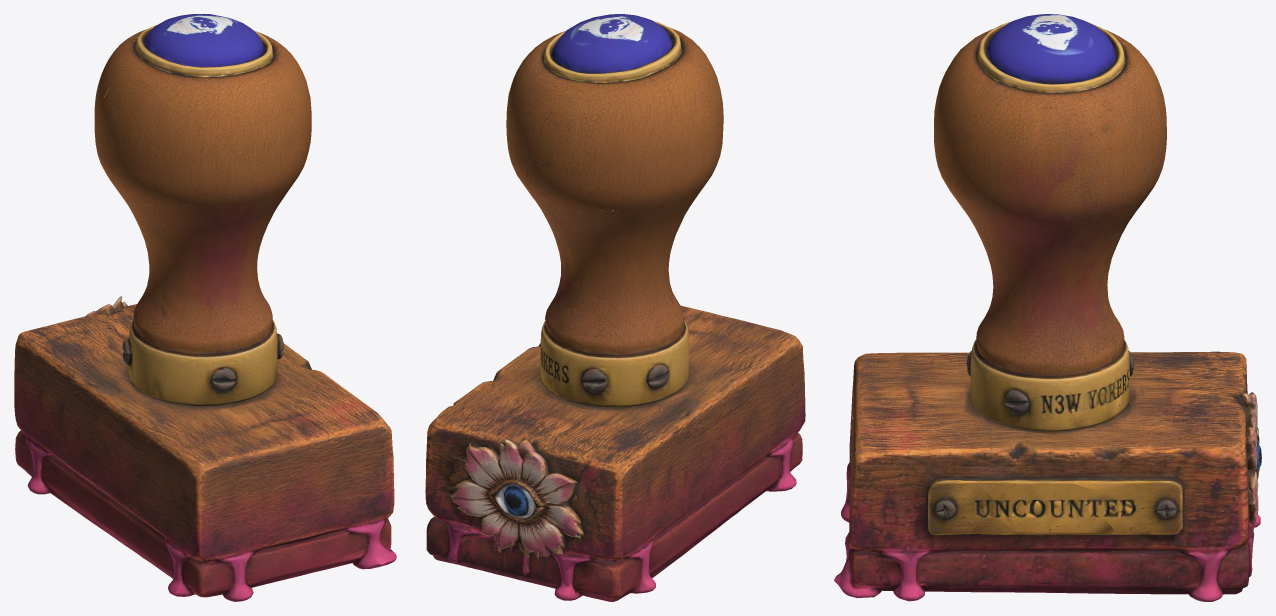
The model's file is marks_stamp.glb.
The picture shows the model from 3 angles, left to right: view 1: azimuth 30°, elevation 25°; view 2: azimuth 150°, elevation 25°; view 3: azimuth 270°, elevation 25°; orthographic projection. The views are drawn at different scales.
Visible parts, largest first — view 1: tripo_node_239671d3-d6f6-42f8-8e28-dbafe721291d; view 2: tripo_node_239671d3-d6f6-42f8-8e28-dbafe721291d; view 3: tripo_node_239671d3-d6f6-42f8-8e28-dbafe721291d.
Boxes of the visible parts, <box> form: tripo_node_239671d3-d6f6-42f8-8e28-dbafe721291d: <box>14,14,396,601</box>; tripo_node_239671d3-d6f6-42f8-8e28-dbafe721291d: <box>425,14,805,601</box>; tripo_node_239671d3-d6f6-42f8-8e28-dbafe721291d: <box>834,14,1261,601</box>.
Size of the model in its own units: 0.4568 by 1 by 0.7405.
Materials: 1 (1 with a texture image).
